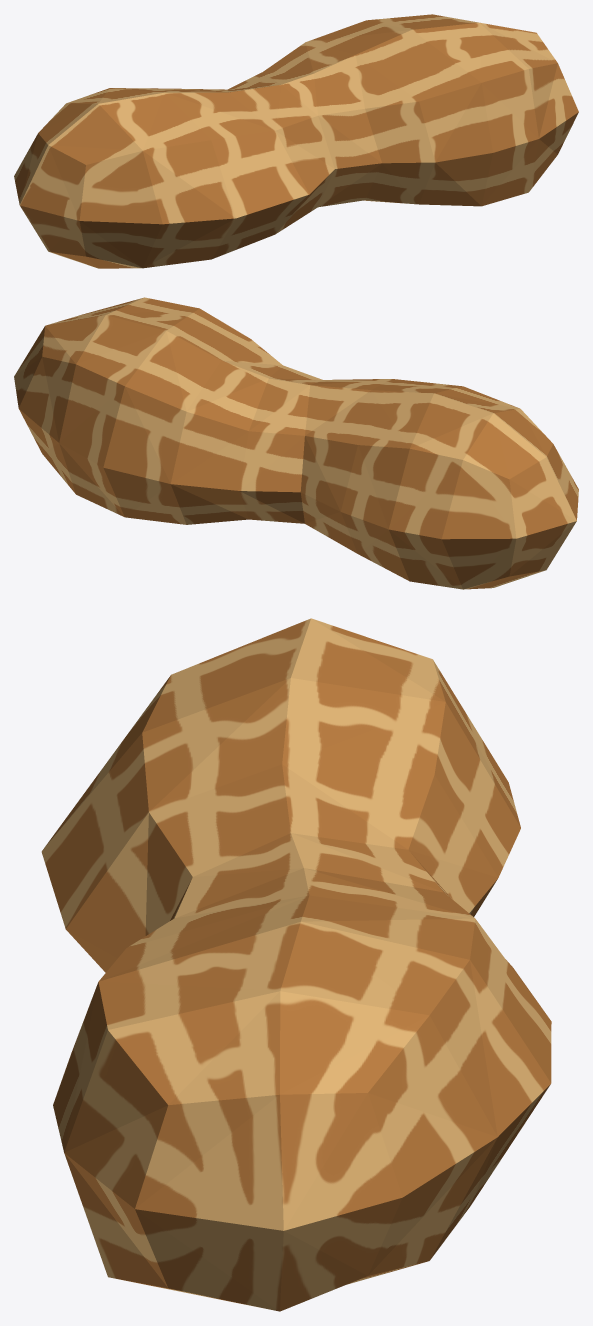
Rendered from peanut_ccby.glb.
3 views of the same model, one above another, from view 1: azimuth 30°, elevation 25°; view 2: azimuth 150°, elevation 25°; view 3: azimuth 270°, elevation 25° (orthographic). The views are drawn at different scales.
Visible parts, largest first — view 1: Node; view 2: Node; view 3: Node.
Boxes of the visible parts, x1=… form: Node: x1=14, y1=14, x2=578, y2=268; Node: x1=14, y1=297, x2=578, y2=589; Node: x1=41, y1=618, x2=551, y2=1311.
Bounding box in the file's own units: 3.41 × 1 × 1.4.
Materials: 1 (1 with a texture image).
